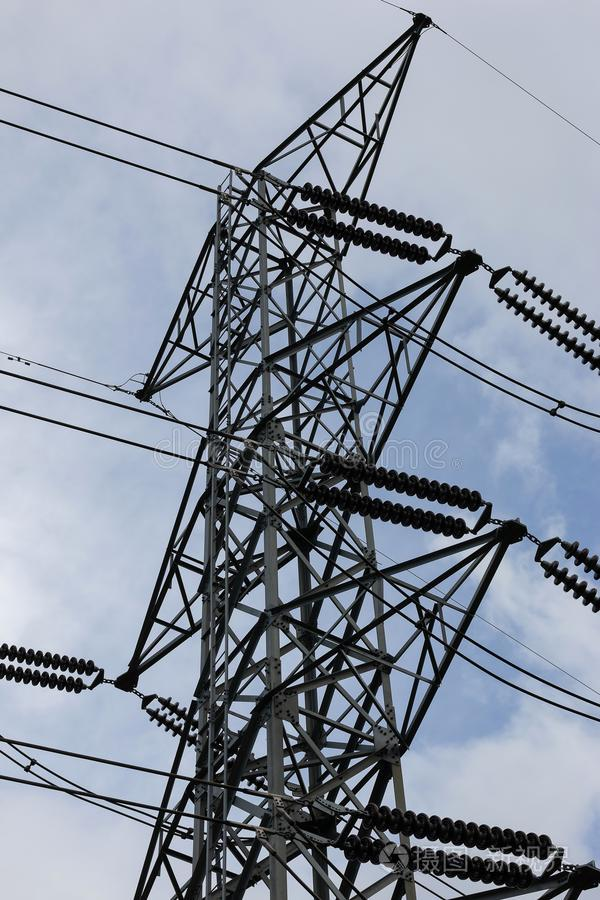insulator: (343, 804, 549, 888), (300, 454, 484, 540), (288, 181, 441, 263), (500, 271, 600, 368), (1, 634, 95, 693), (546, 540, 600, 619), (148, 693, 200, 748)
